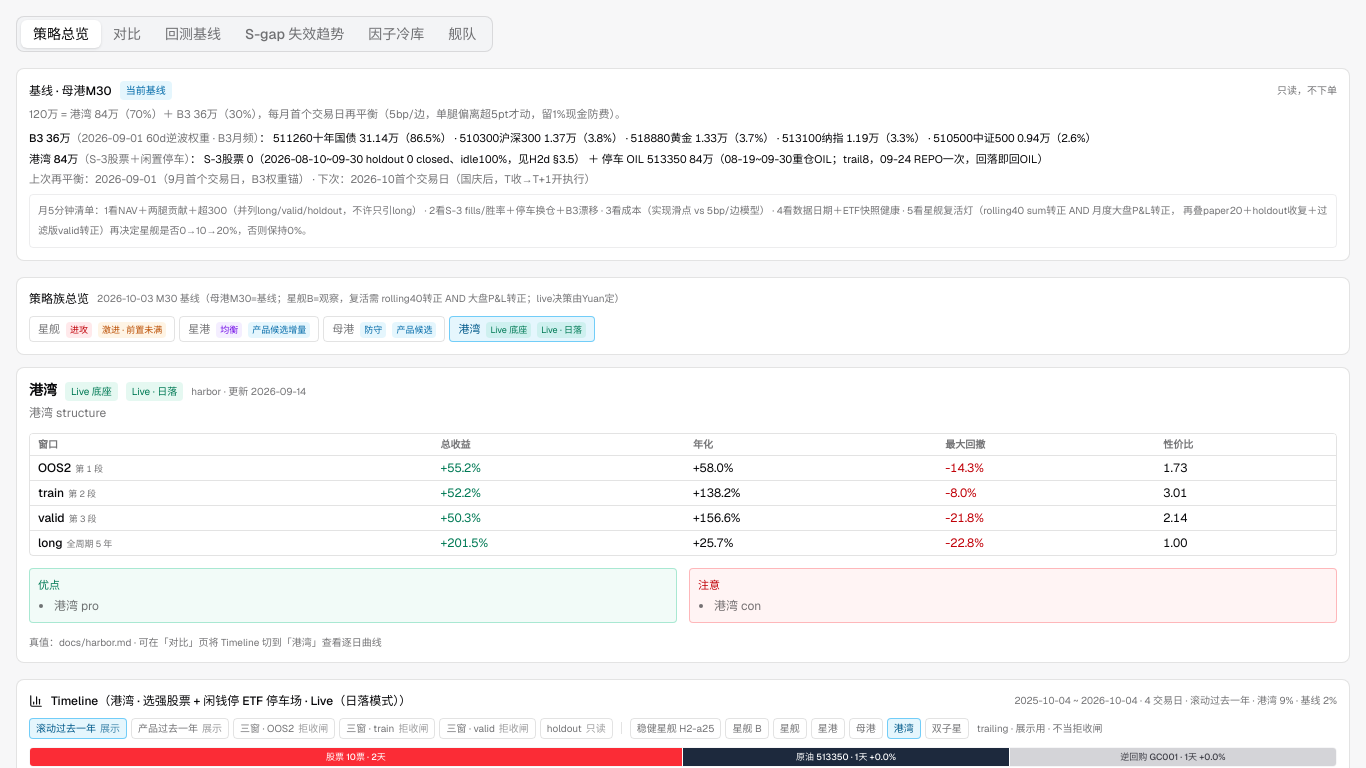
it: BacktestPage › labels the starship v2 parked-cash overlay
Click the button "激进 · 前置未满" at [102, 329], box [29,316,175,342]
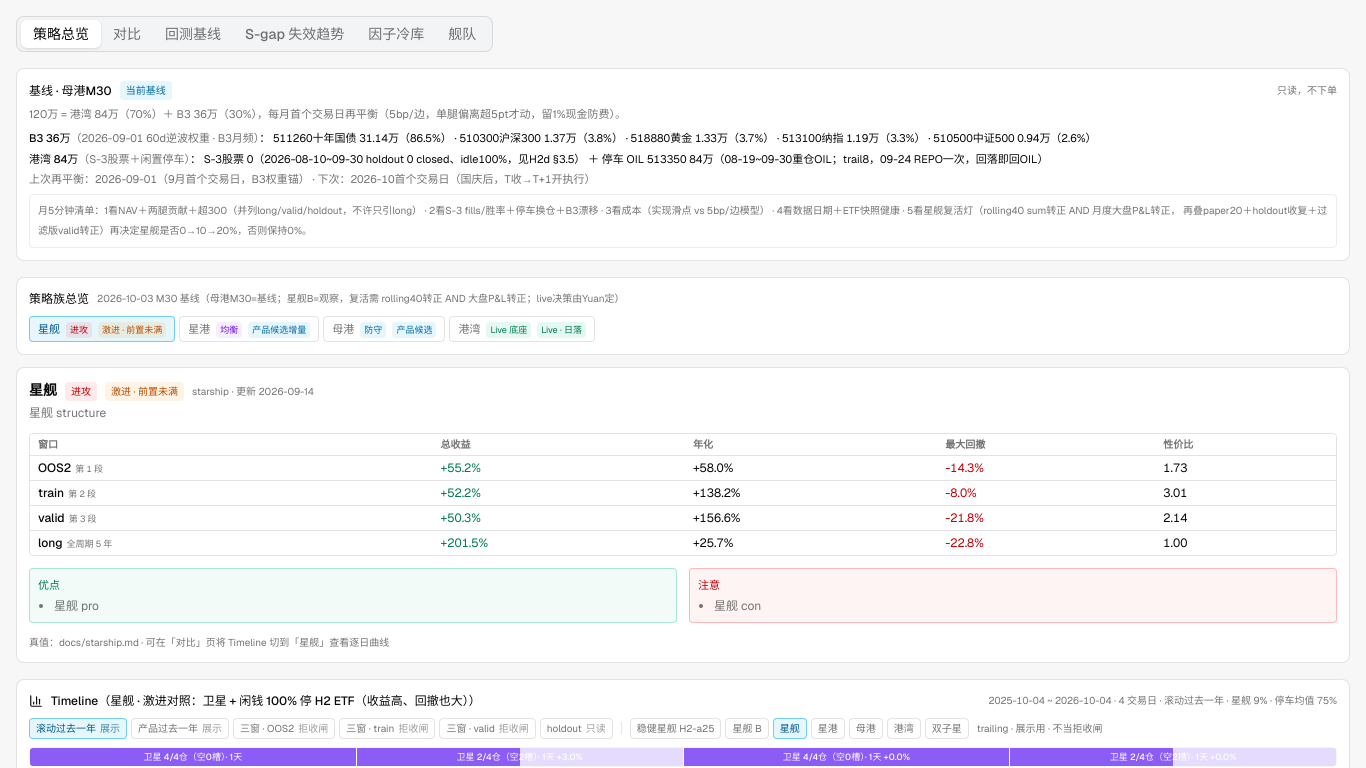
Check: the text "2025-10-04 ~ 2026-10-04 · 4 交易日 · 滚动过去一年 · 星舰 9% · 停车均值 75%" is shown, box [988,693,1337,708]
Check: the text "激进对照：卫星 + 闲钱 100% 停 H2 ETF" is shown, box [143,693,469,709]
